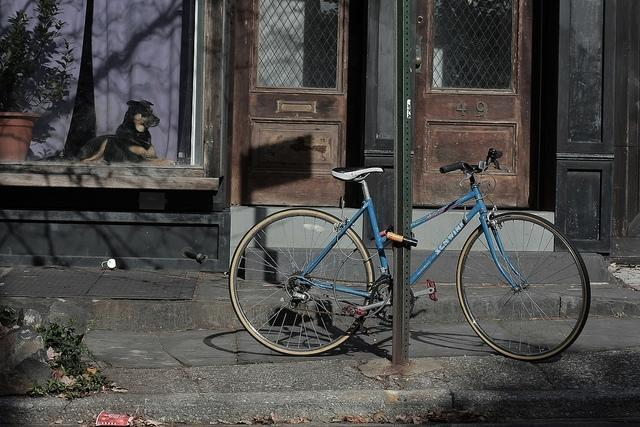bicycle: (228, 148, 591, 362)
